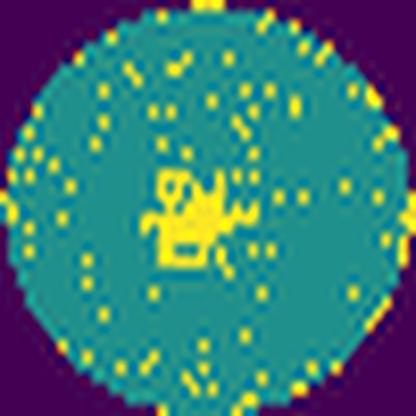Center: (158, 170, 260, 267)
